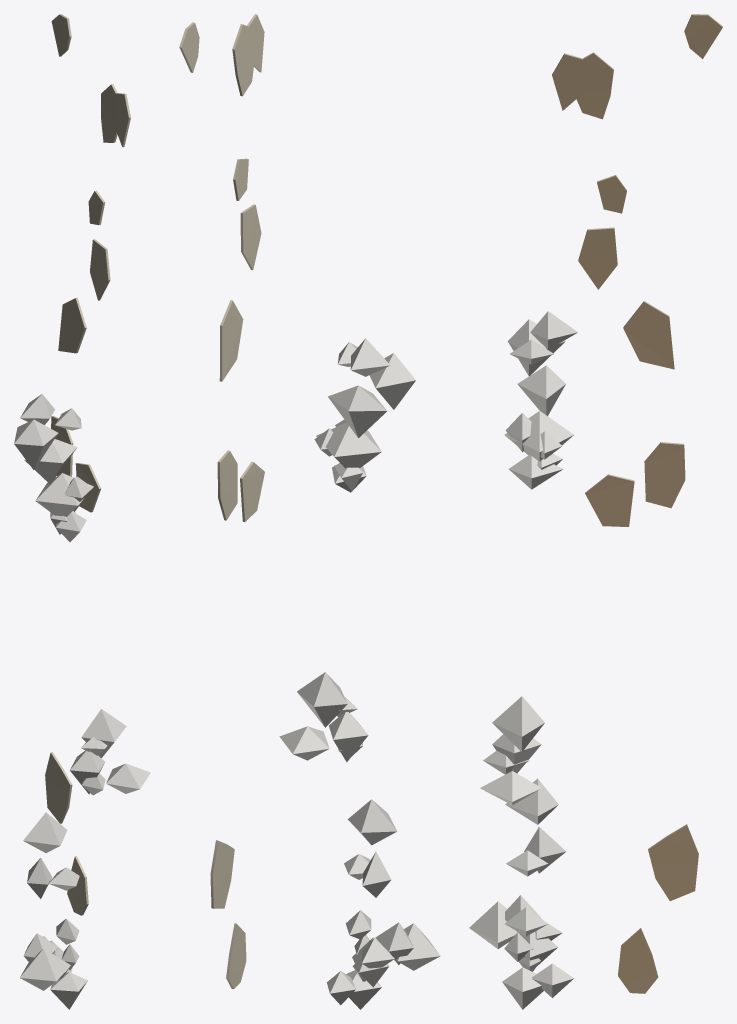
File: Kit_DoorLeafBreak_Steel_DA_Deb0.fbx
3 renders of one model, left to right at view 1: azimuth 30°, elevation 25°; view 2: azimuth 150°, elevation 25°; view 3: azimuth 270°, elevation 25°, orthographic. The views are drawn at different scales.
Visible parts, largest first — view 1: deb_gyp_05, deb_gyp_02, deb_gyp_04, deb_gyp_03, deb_gyp_01, deb_chip_04, deb_chip_08, deb_gyp_00, deb_chip_00, deb_chip_06, deb_chip_01, deb_chip_03 (+4 smaller); view 2: deb_gyp_05, deb_gyp_02, deb_gyp_03, deb_gyp_01, deb_gyp_04, deb_gyp_00, deb_chip_04, deb_chip_08, deb_chip_07, deb_chip_06, deb_chip_03, deb_chip_00 (+3 smaller); view 3: deb_gyp_02, deb_gyp_05, deb_gyp_03, deb_gyp_00, deb_chip_04, deb_gyp_04, deb_gyp_01, deb_chip_08, deb_chip_07, deb_chip_03, deb_chip_01, deb_chip_06 (+4 smaller).
Part boxes in pixels (box(x1,y1,x2,y2)): deb_gyp_05: box(14, 394, 81, 483); deb_gyp_02: box(70, 709, 150, 795); deb_gyp_04: box(20, 918, 79, 990); deb_gyp_03: box(35, 473, 93, 542); deb_gyp_01: box(23, 812, 79, 898); deb_chip_04: box(45, 752, 72, 823); deb_chip_08: box(58, 297, 86, 353); deb_gyp_00: box(43, 936, 87, 1009); deb_chip_00: box(90, 239, 110, 300); deb_chip_06: box(101, 84, 117, 142); deb_chip_01: box(67, 856, 88, 915); deb_chip_03: box(75, 463, 101, 512); deb_gyp_05: box(328, 338, 415, 437); deb_gyp_02: box(279, 672, 368, 762); deb_gyp_03: box(314, 419, 381, 492); deb_gyp_01: box(344, 799, 397, 897); deb_gyp_04: box(345, 910, 440, 970); deb_gyp_00: box(327, 937, 394, 1009); deb_chip_04: box(210, 840, 234, 908); deb_chip_08: box(219, 300, 243, 381); deb_chip_07: box(217, 450, 237, 520); deb_chip_06: box(232, 24, 253, 96); deb_chip_03: box(240, 461, 264, 521); deb_chip_00: box(240, 204, 261, 270); deb_gyp_02: box(480, 696, 544, 805); deb_gyp_05: box(507, 311, 577, 416); deb_gyp_03: box(504, 411, 573, 489); deb_gyp_00: box(502, 923, 573, 1009); deb_chip_04: box(648, 824, 698, 901); deb_gyp_04: box(469, 895, 547, 961); deb_gyp_01: box(505, 778, 566, 876); deb_chip_08: box(623, 301, 674, 369); deb_chip_07: box(644, 442, 685, 508); deb_chip_03: box(585, 474, 634, 526); deb_chip_01: box(618, 928, 658, 993); deb_chip_06: box(572, 52, 613, 119).
Size of the model in its own units: 0.0332 by 0.2118 by 0.047.
